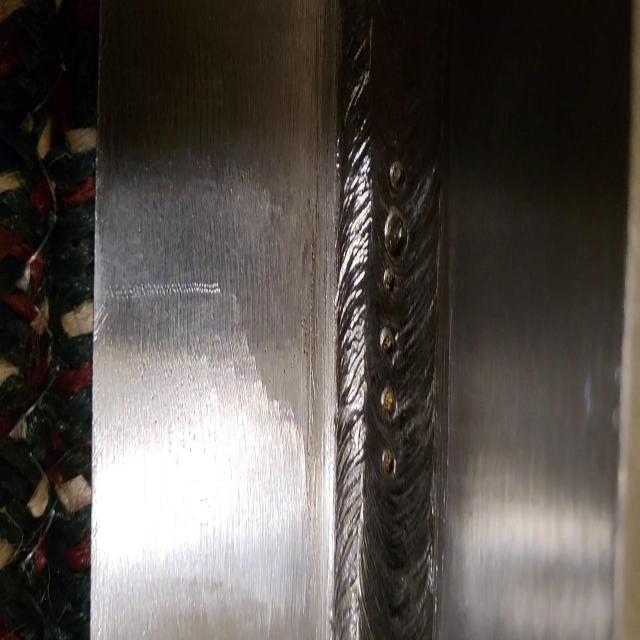Welding Line: (342, 6, 444, 640)
Workpiece: (95, 13, 640, 640)
porosity: (381, 160, 408, 478)
